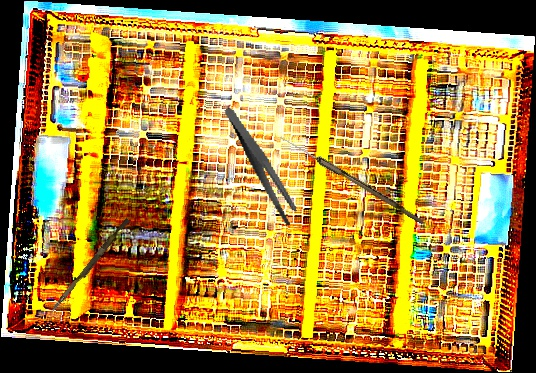Dressing Forceps: (224, 98, 300, 234)
Pusher: (49, 216, 131, 316)
Surgical Spoon: (277, 133, 426, 225)
